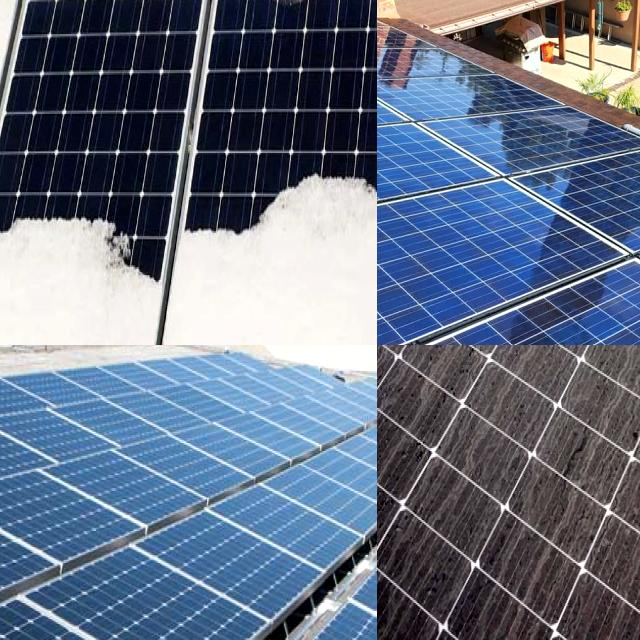crack: (377, 171, 640, 345), (0, 534, 281, 640), (138, 493, 330, 640), (463, 106, 640, 265), (377, 109, 530, 270), (211, 458, 366, 602), (407, 102, 640, 192), (257, 448, 377, 568), (304, 426, 377, 538)
dust: (377, 459, 546, 640), (392, 345, 571, 450), (451, 345, 612, 437), (566, 459, 640, 640), (377, 345, 427, 453)
panel: (88, 170, 164, 306), (222, 0, 339, 61), (246, 150, 308, 264), (36, 180, 98, 280), (180, 191, 243, 286), (318, 153, 377, 247), (43, 0, 135, 50), (0, 114, 39, 210), (0, 0, 63, 53), (140, 0, 210, 43), (0, 115, 47, 176), (0, 216, 48, 266), (0, 0, 42, 45), (0, 0, 25, 57), (0, 0, 41, 34), (345, 0, 377, 31)
